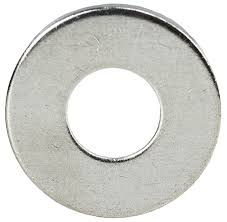No thread: (54, 68, 168, 167)
